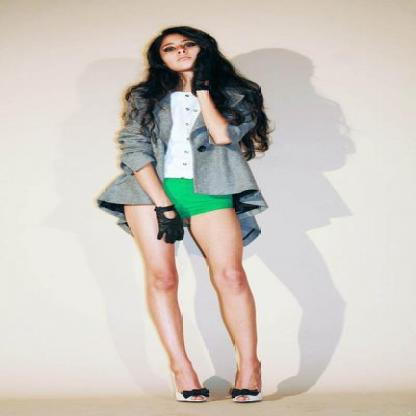jacket: (97, 75, 267, 240)
shirt: (164, 92, 200, 178)
shoe: (179, 374, 271, 403)
shorts: (163, 177, 231, 224)
